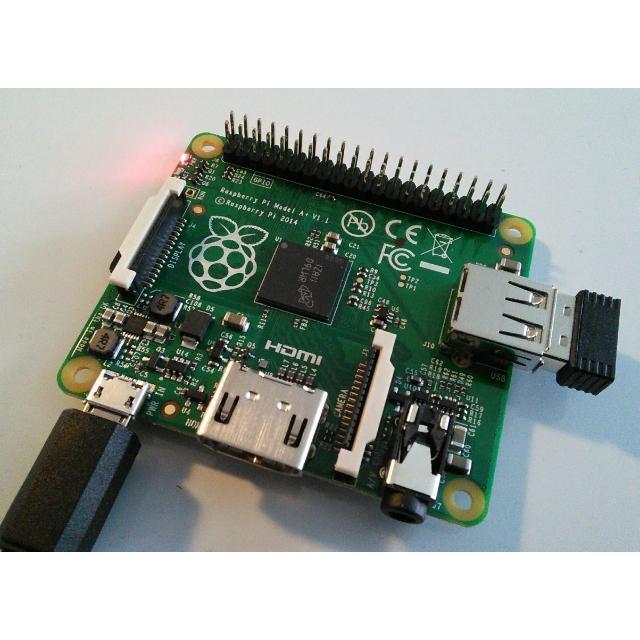Raspberry-Pi-1-A-: (58, 114, 621, 527)
